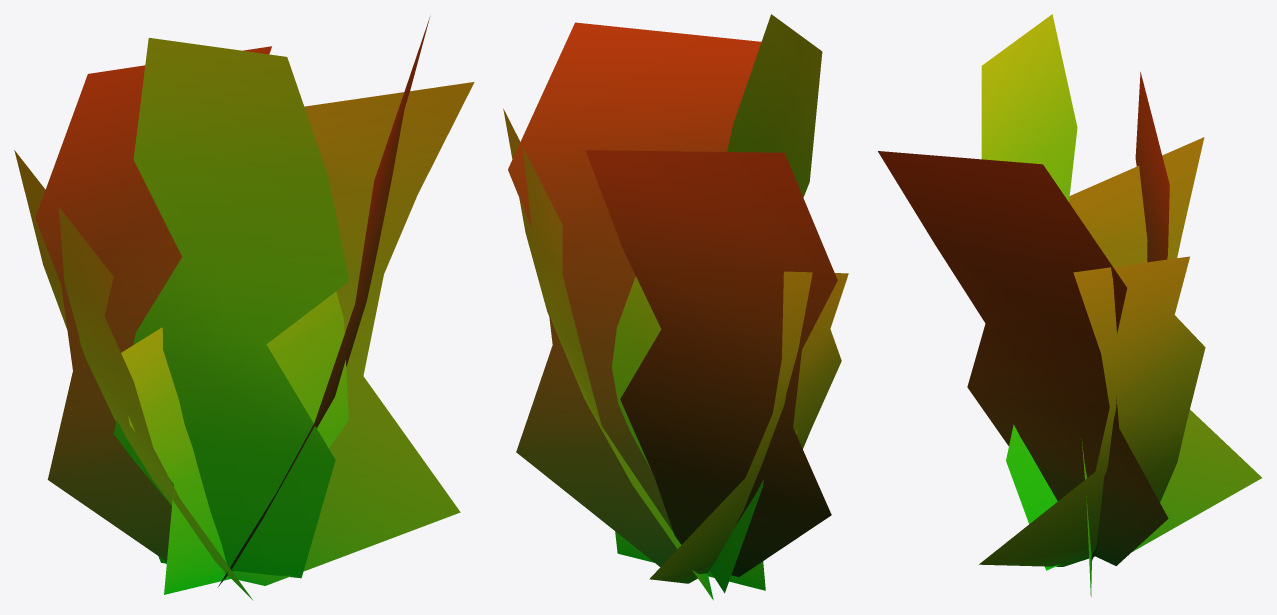
File: Var8Hi13.fbx
3 views of the same model, side by side, from view 1: azimuth 30°, elevation 25°; view 2: azimuth 150°, elevation 25°; view 3: azimuth 270°, elevation 25° (orthographic). The views are drawn at different scales.
Parts seen in each view (by area): view 1: bend1; view 2: bend1; view 3: bend1.
Boxes of the visible parts, x1,y1,x2,y2 form: bend1: (14,16,474,600); bend1: (503,14,848,600); bend1: (878,14,1261,596).
Size of the model in its own units: 1.27 by 1.76 by 1.22.
